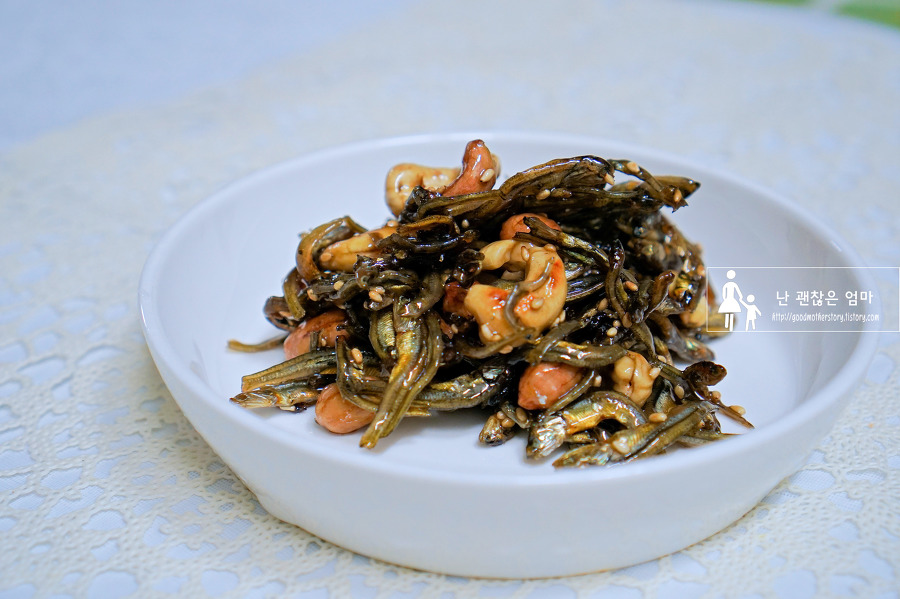myeolchibokk-eum: (226, 130, 745, 472)
